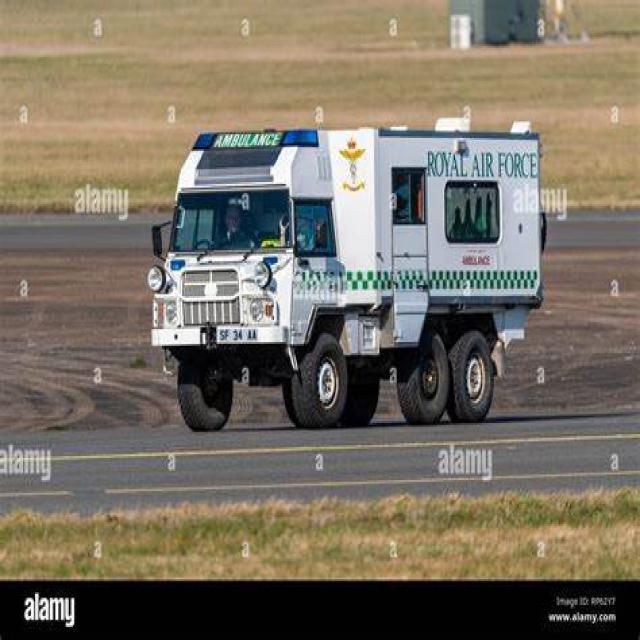ambulance: (186, 112, 317, 152)
